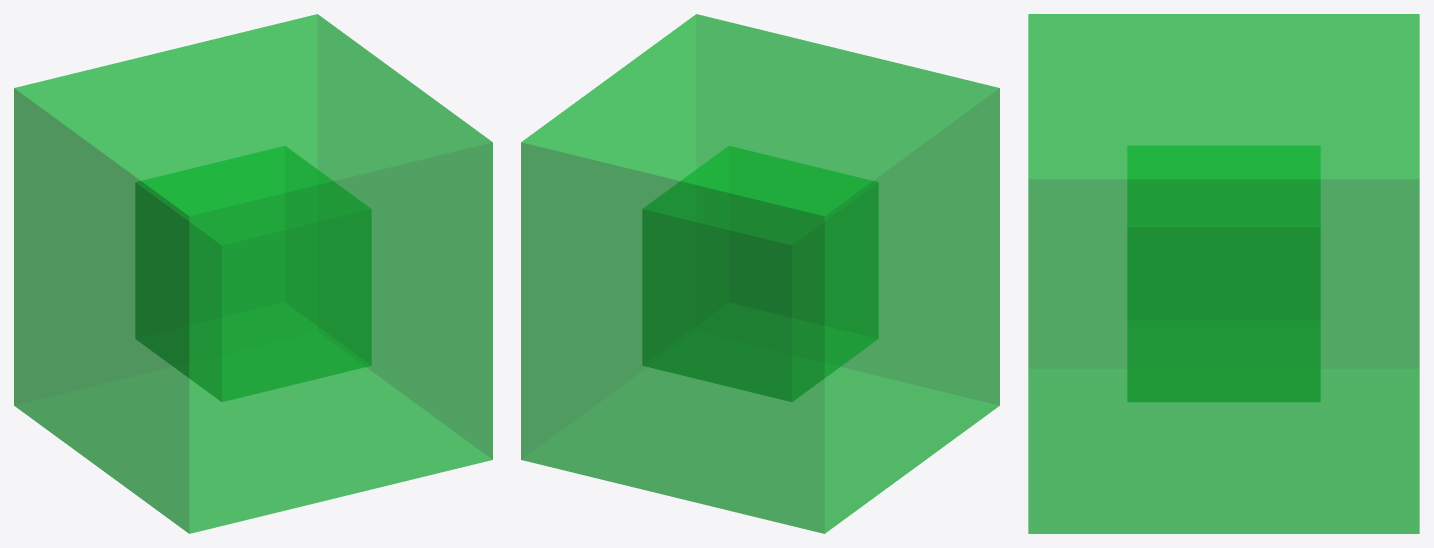
Rendered from Slime_default_1_2.fbx.
The picture shows the model from 3 angles, left to right: view 1: azimuth 30°, elevation 25°; view 2: azimuth 150°, elevation 25°; view 3: azimuth 270°, elevation 25°; orthographic projection. The views are drawn at different scales.
Parts seen in each view (by area): view 1: Cube; view 2: Cube; view 3: Cube.
Part boxes in pixels (x1=…): Cube: x1=14, y1=14, x2=492, y2=533; Cube: x1=521, y1=14, x2=999, y2=533; Cube: x1=1028, y1=14, x2=1419, y2=533.
Size of the model in its own units: 50 by 50 by 50.
